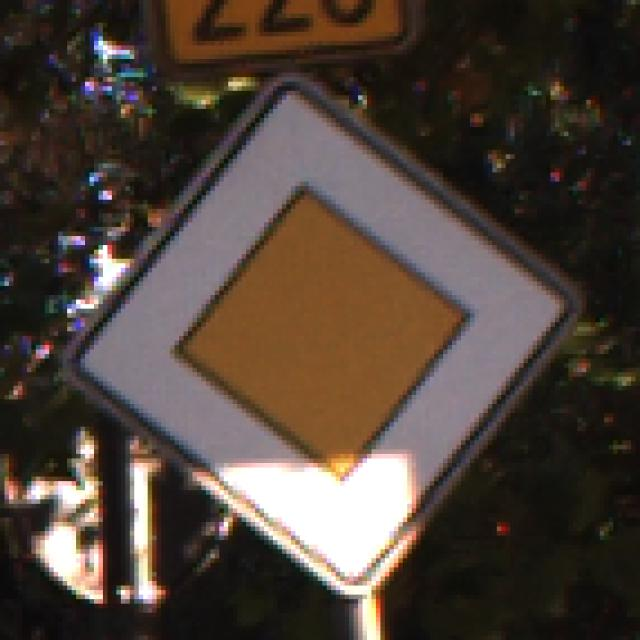Main Road: (59, 60, 587, 587)
